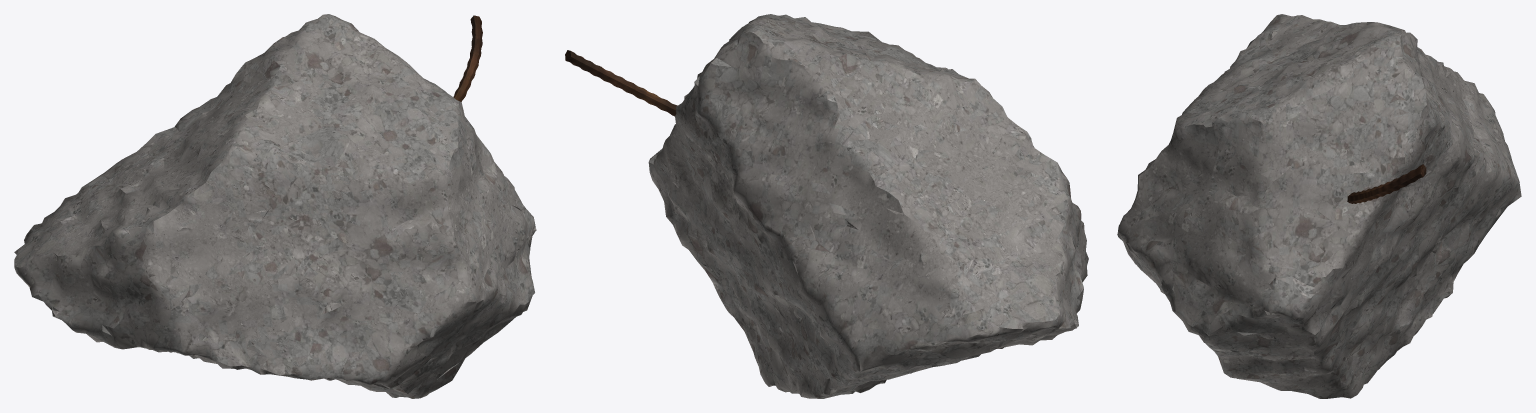
The model's file is concrete_chunk_a.glb.
3 renders of one model, left to right at view 1: azimuth 30°, elevation 25°; view 2: azimuth 150°, elevation 25°; view 3: azimuth 270°, elevation 25°, orthographic. The views are drawn at different scales.
Parts seen in each view (by area): view 1: concrete_chunk_a, rebar; view 2: concrete_chunk_a, rebar; view 3: concrete_chunk_a, rebar.
Part boxes in pixels (x1=…): concrete_chunk_a: x1=14, y1=14, x2=536, y2=398; rebar: x1=453, y1=15, x2=482, y2=101; concrete_chunk_a: x1=648, y1=14, x2=1088, y2=398; rebar: x1=565, y1=50, x2=677, y2=116; concrete_chunk_a: x1=1117, y1=14, x2=1521, y2=398; rebar: x1=1347, y1=164, x2=1426, y2=203.
Bounding box in the file's own units: 1.13 × 0.8169 × 0.8395.
Materials: 2 (2 with a texture image).
